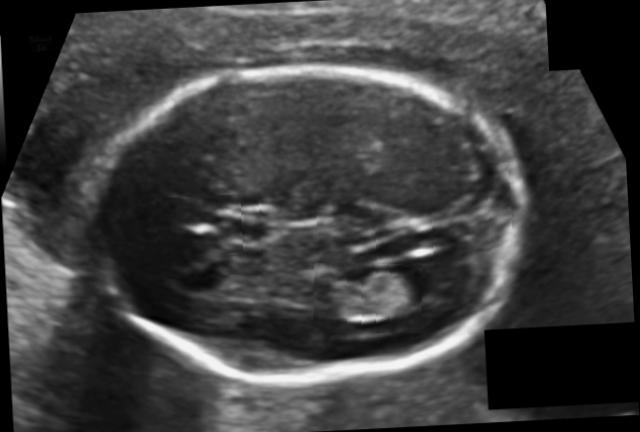CHOROID_PLEXUS: (311, 259, 424, 337)
CSP: (155, 194, 243, 258)
MIDLINE_FALX: (120, 164, 514, 280)
